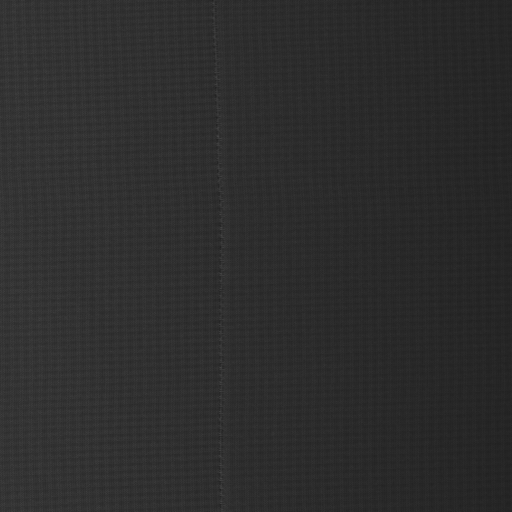defect: (204, 1, 233, 512)
